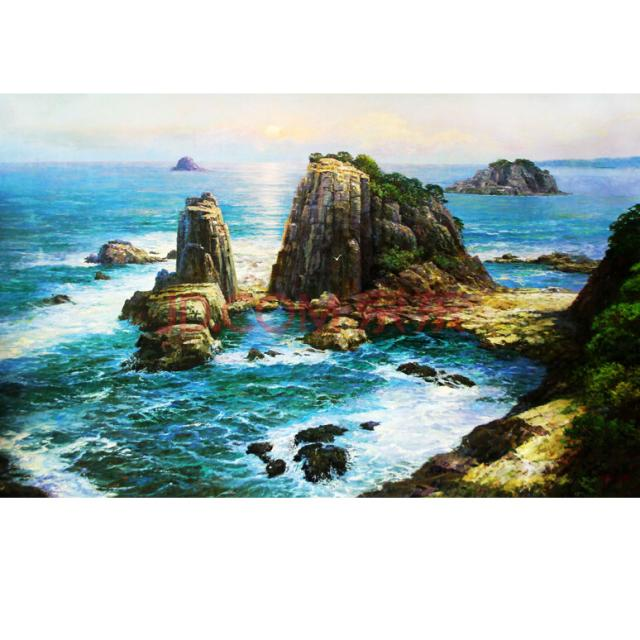reef: (84, 223, 250, 347)
